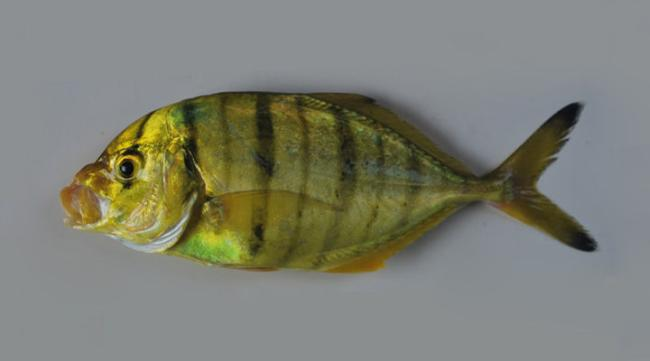fish: (59, 92, 600, 275)
